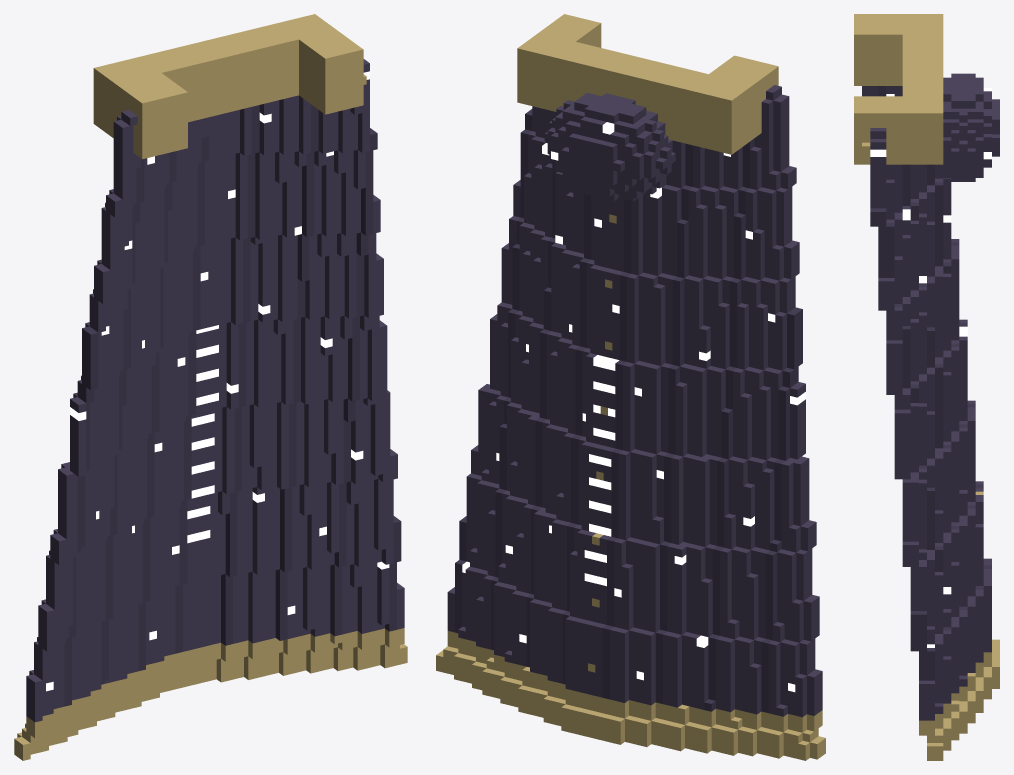
Rendered from mystic_legendary_cloak.glb.
The picture shows the model from 3 angles, left to right: view 1: azimuth 30°, elevation 25°; view 2: azimuth 150°, elevation 25°; view 3: azimuth 270°, elevation 25°; orthographic projection. The views are drawn at different scales.
Parts seen in each view (by area): view 1: mystic_legendary_cloak; view 2: mystic_legendary_cloak; view 3: mystic_legendary_cloak.
Boxes of the visible parts, x1,y1,x2,y2 form: mystic_legendary_cloak: (14, 14, 407, 760); mystic_legendary_cloak: (436, 14, 825, 760); mystic_legendary_cloak: (854, 14, 999, 760).
Bounding box in the file's own units: 0.612 × 0.996 × 0.216.
